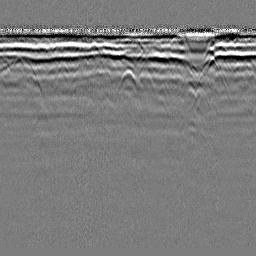cavity: (117, 67, 138, 90)
